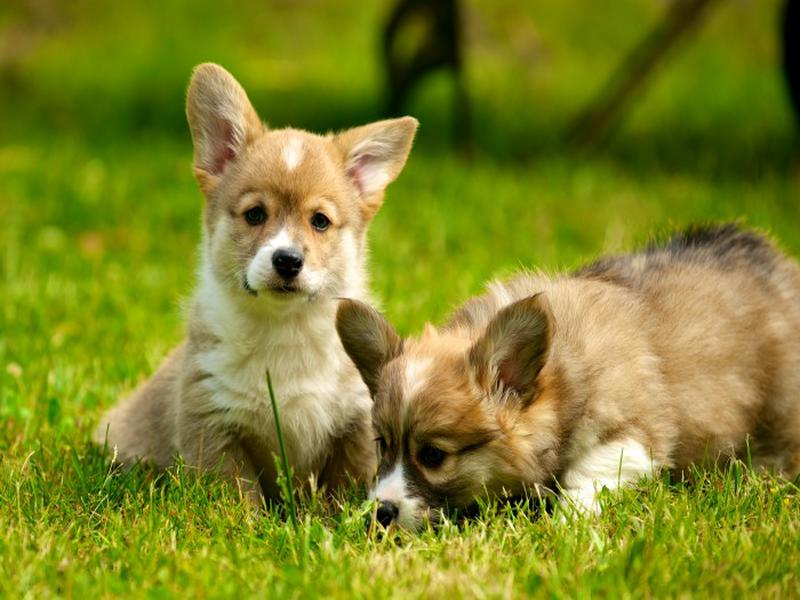corgi: (183, 57, 420, 305)
